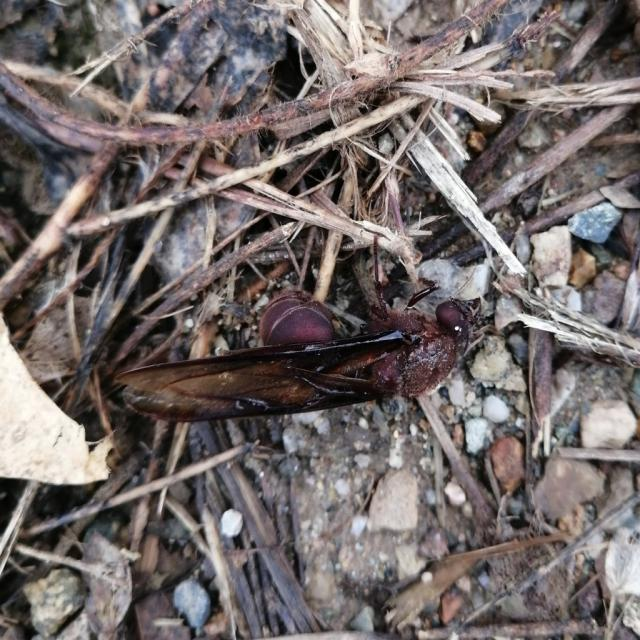Alive-Female-Alate: (114, 236, 505, 422)
